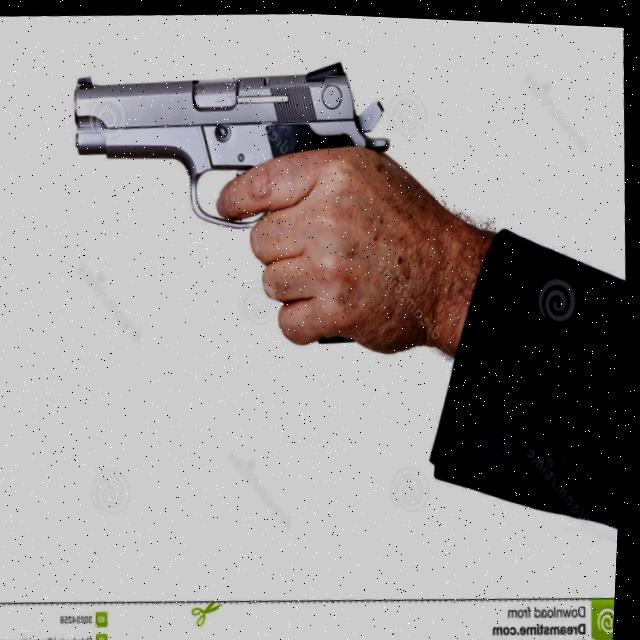pistol: (69, 46, 397, 243)
